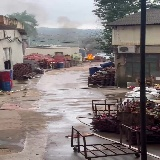fire: (86, 54, 94, 59)
